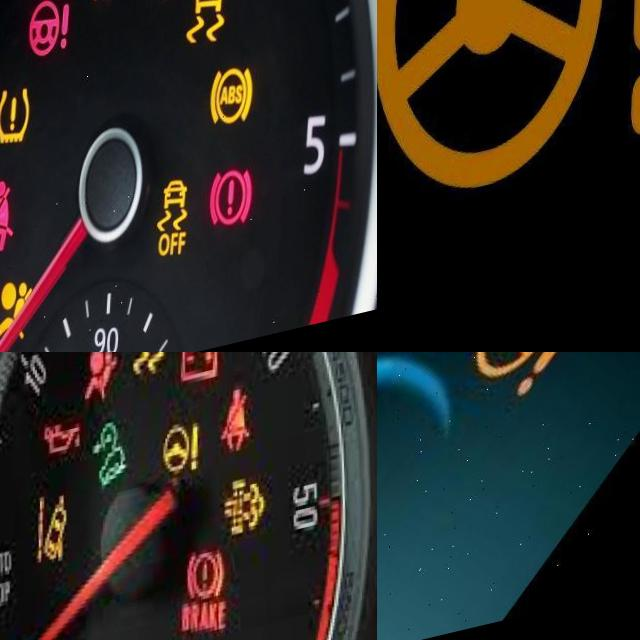Electronic Power Steering: (377, 0, 640, 221), (160, 436, 204, 494)
Electronic Power Steering Warning: (29, 7, 74, 74)
Seat Belt: (223, 403, 253, 468)
